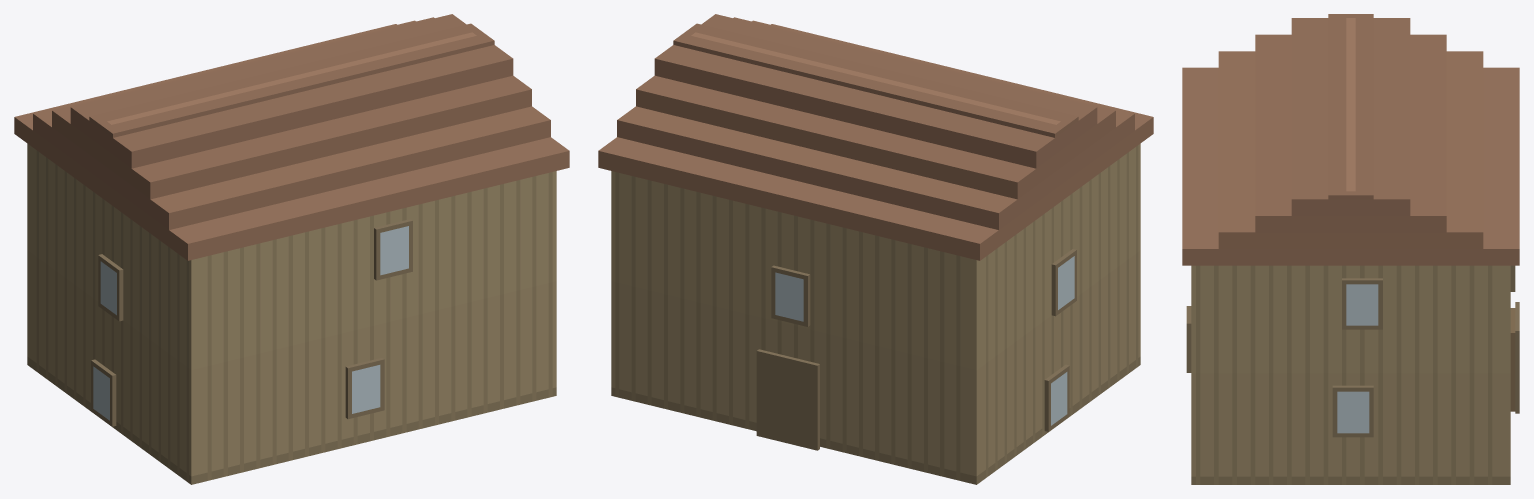
The model's file is taller_sastre_02.glb.
3 views of the same model, side by side, from view 1: azimuth 30°, elevation 25°; view 2: azimuth 150°, elevation 25°; view 3: azimuth 270°, elevation 25° (orthographic). The views are drawn at different scales.
Visible parts, largest first — view 1: taller_sastre_02; view 2: taller_sastre_02; view 3: taller_sastre_02.
Part boxes in pixels (x1=…): taller_sastre_02: x1=14, y1=14, x2=569, y2=484; taller_sastre_02: x1=598, y1=14, x2=1153, y2=484; taller_sastre_02: x1=1182, y1=14, x2=1519, y2=484.
Size of the model in its own units: 9.4 by 7.1 by 7.4.
